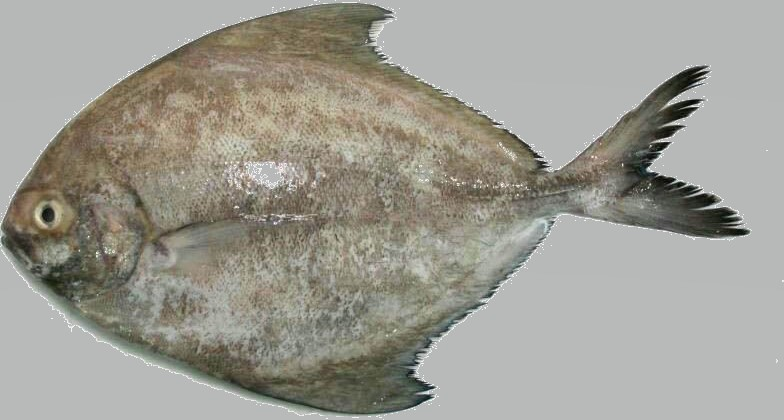Ikan Bawal: (1, 1, 781, 417)
